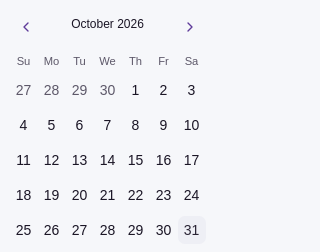
it: Button primitive integrations › keeps calendar dates specialized while composing shared month navigation
Click the button named "Wednesday, October 14th, 2026" at (108, 160), box [94,146,122,174]
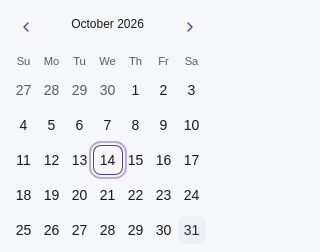
Click the button named "next month" at (190, 26), box [174,10,206,42]
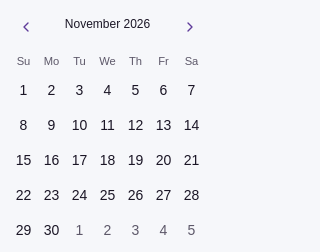
Result: the text "November 2026" is shown at [65,16,150,33]
